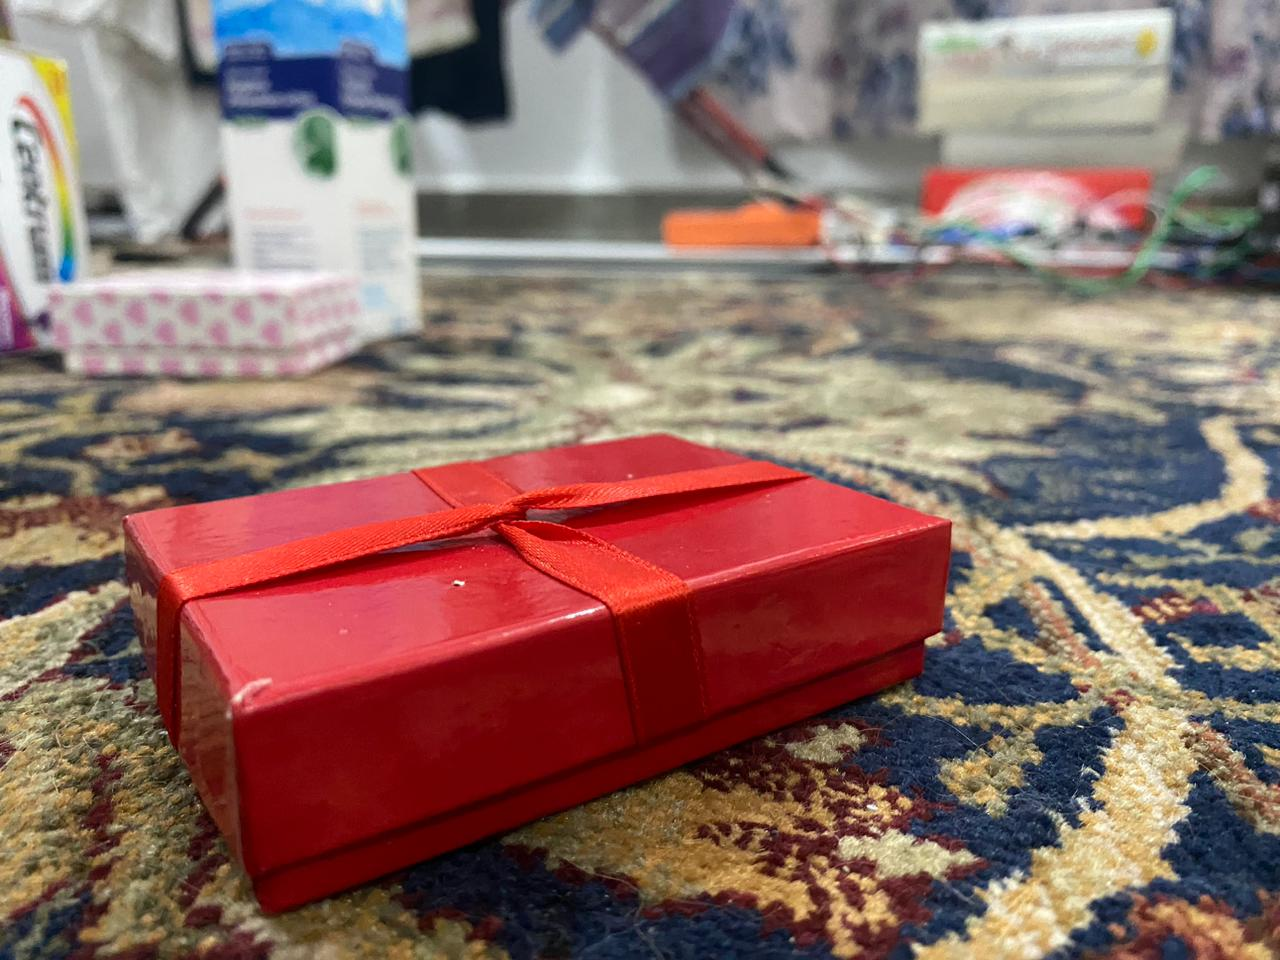Black Box: (115, 425, 958, 918)
Centrum: (1, 37, 89, 354)
Physiomer: (197, 1, 423, 342)
Pink Box: (49, 266, 358, 377)
